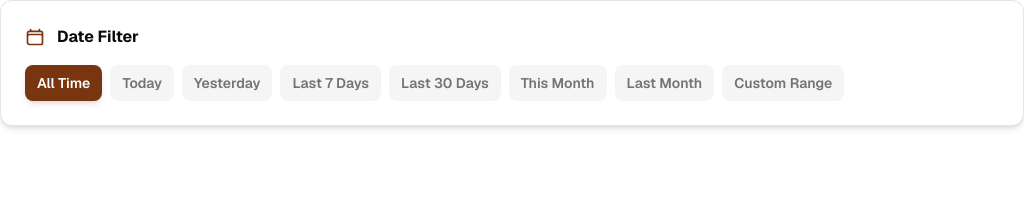
Test: DateRangePicker Component › Preset Selection › should show clear button when a preset is selected
Click the button "Today".
click(142, 83)  # box [110, 65, 174, 101]
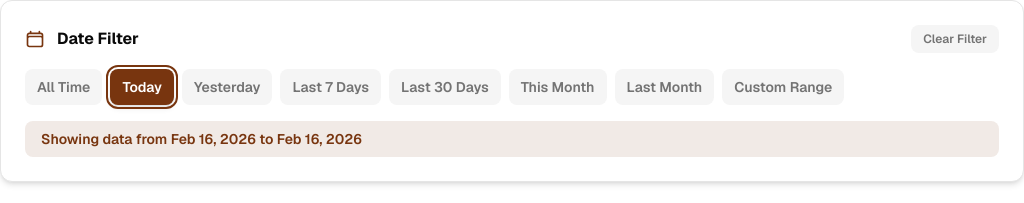
Expected: the button "Clear Filter" is shown, [911, 25, 999, 53]
